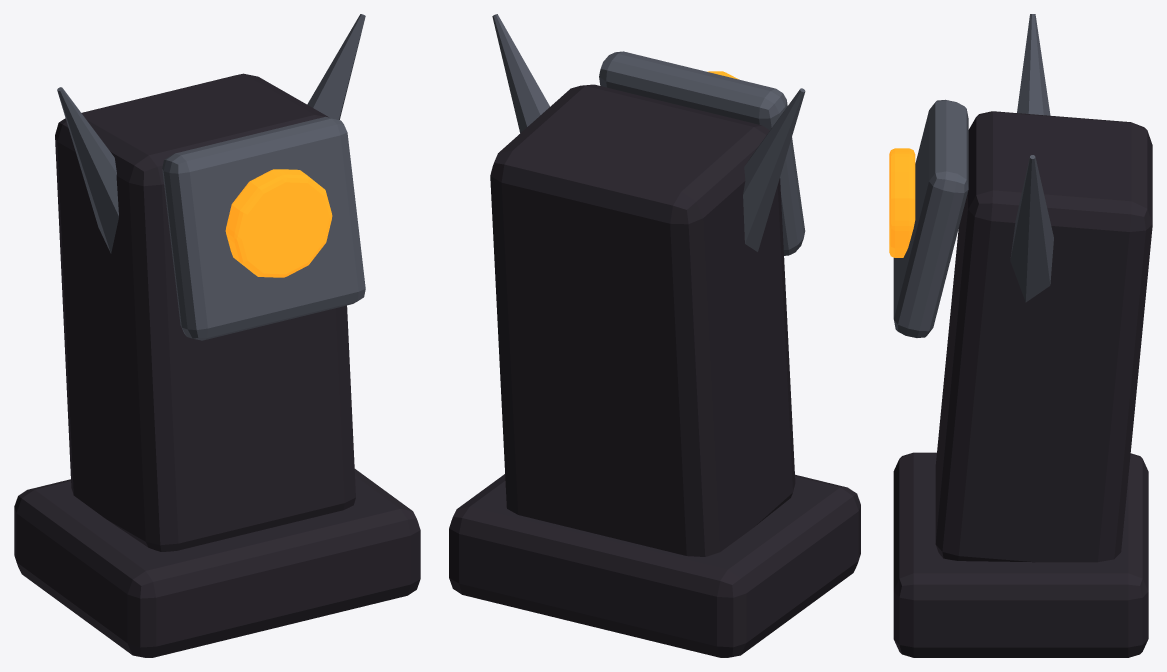
Rendered from RiftConsole.fbx.
The picture shows the model from 3 angles, left to right: view 1: azimuth 30°, elevation 25°; view 2: azimuth 150°, elevation 25°; view 3: azimuth 270°, elevation 25°; orthographic projection. The views are drawn at different scales.
Visible parts, largest first — view 1: ConsolePillar, ConsoleBase, ConsoleFace, ConsoleButton, ConsoleHorn, ConsoleHorn.001; view 2: ConsolePillar, ConsoleBase, ConsoleFace, ConsoleHorn, ConsoleHorn.001; view 3: ConsolePillar, ConsoleBase, ConsoleFace, ConsoleHorn.001, ConsoleButton, ConsoleHorn.
Part boxes in pixels (x1,y1,x2,y2): ConsolePillar: (55, 73, 355, 551); ConsoleBase: (14, 469, 420, 657); ConsoleFace: (162, 116, 365, 340); ConsoleButton: (225, 169, 332, 277); ConsoleHorn: (57, 87, 118, 253); ConsoleHorn.001: (307, 14, 365, 119); ConsolePillar: (490, 84, 795, 556); ConsoleBase: (449, 474, 860, 657); ConsoleFace: (599, 51, 805, 255); ConsoleHorn: (743, 88, 805, 251); ConsoleHorn.001: (492, 14, 549, 133); ConsolePillar: (935, 111, 1152, 562); ConsoleBase: (893, 452, 1148, 657); ConsoleFace: (893, 99, 968, 337); ConsoleHorn.001: (1010, 155, 1053, 302); ConsoleButton: (889, 148, 915, 257); ConsoleHorn: (1017, 14, 1050, 115).
Bounding box in the file's own units: 0.5925 × 0.9761 × 0.4548.
